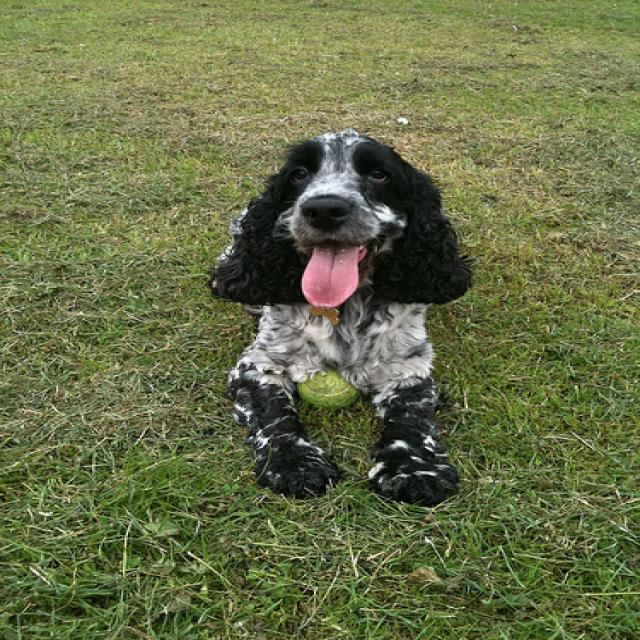dog-english_cocker_spaniel: (186, 122, 485, 517)
